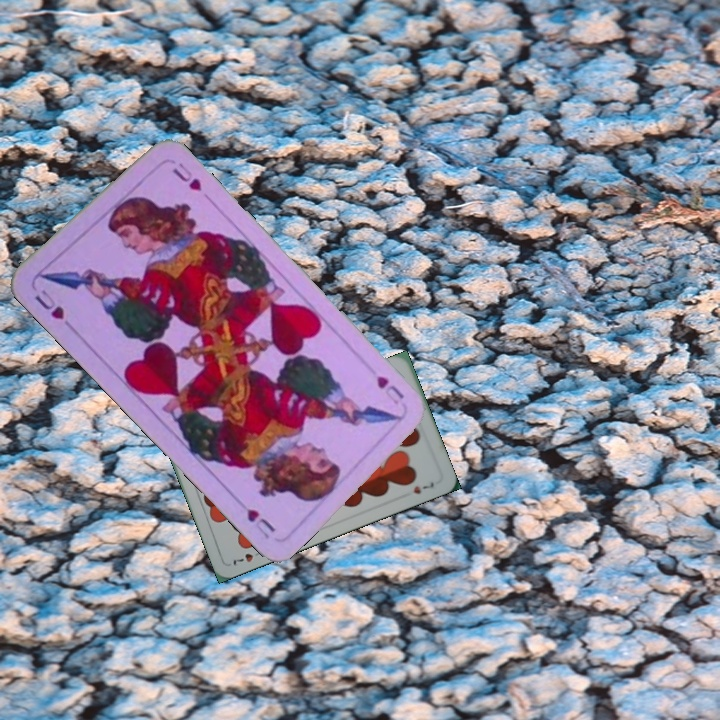H7: (229, 547, 266, 569)
HU: (30, 285, 75, 331), (372, 371, 407, 407)
